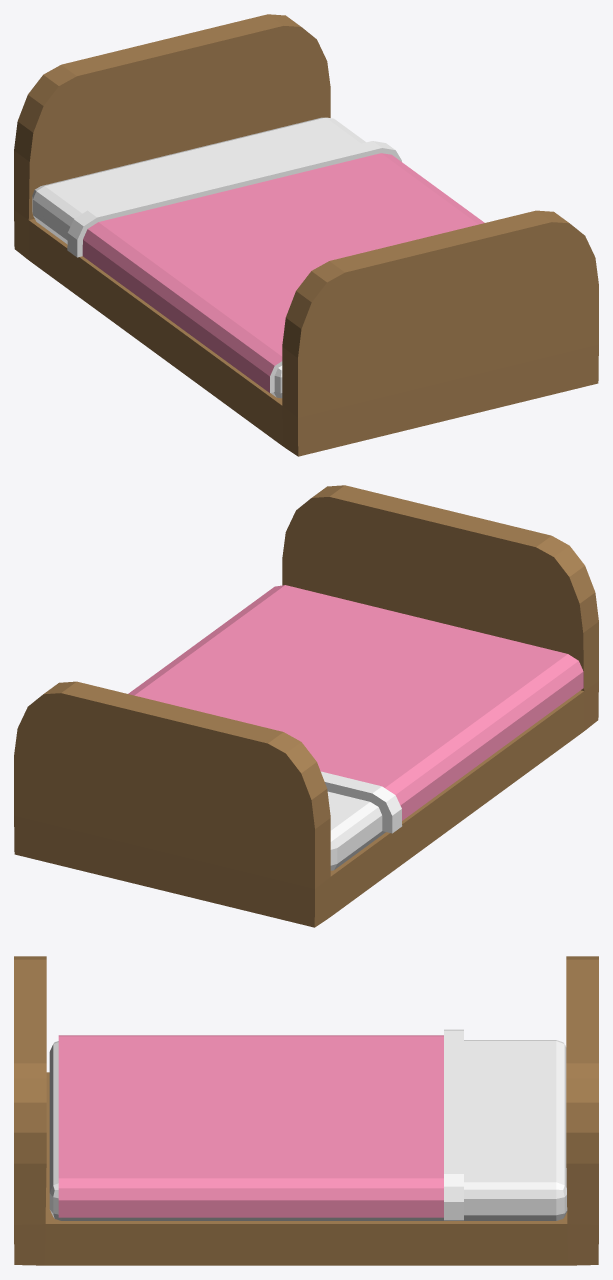
Rendered from Single Bed_1.fbx.
The picture shows the model from 3 angles, top to bottom: view 1: azimuth 30°, elevation 25°; view 2: azimuth 150°, elevation 25°; view 3: azimuth 270°, elevation 25°; orthographic projection. The views are drawn at different scales.
Parts seen in each view (by area): view 1: Single Bed_1; view 2: Single Bed_1; view 3: Single Bed_1.
Boxes of the visible parts, <box> form: Single Bed_1: <box>14,14,598,456</box>; Single Bed_1: <box>14,485,598,927</box>; Single Bed_1: <box>14,956,598,1265</box>.
Bounding box in the file's own units: 1.44 × 0.7354 × 2.18.
